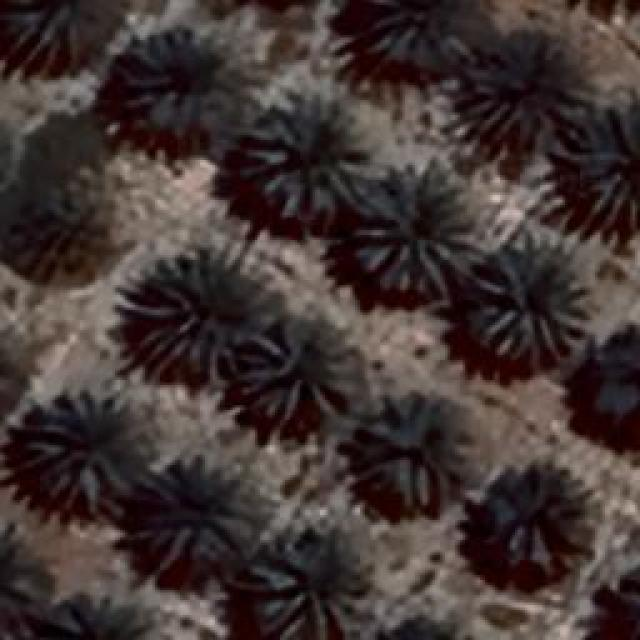PalmTree: (88, 26, 119, 616), (348, 162, 482, 298), (245, 84, 370, 218), (128, 250, 255, 380), (115, 25, 265, 133), (20, 388, 148, 508), (352, 390, 470, 512), (458, 32, 588, 140), (470, 250, 590, 365), (137, 457, 260, 565), (238, 317, 360, 425), (0, 176, 112, 282), (478, 477, 586, 585), (247, 544, 365, 638), (562, 97, 636, 230), (365, 0, 472, 62), (12, 0, 115, 62), (590, 338, 640, 450), (0, 532, 42, 625), (596, 557, 639, 640), (0, 328, 23, 426), (364, 623, 472, 640), (561, 0, 640, 21), (0, 330, 16, 426), (562, 0, 640, 15), (0, 331, 12, 426)
